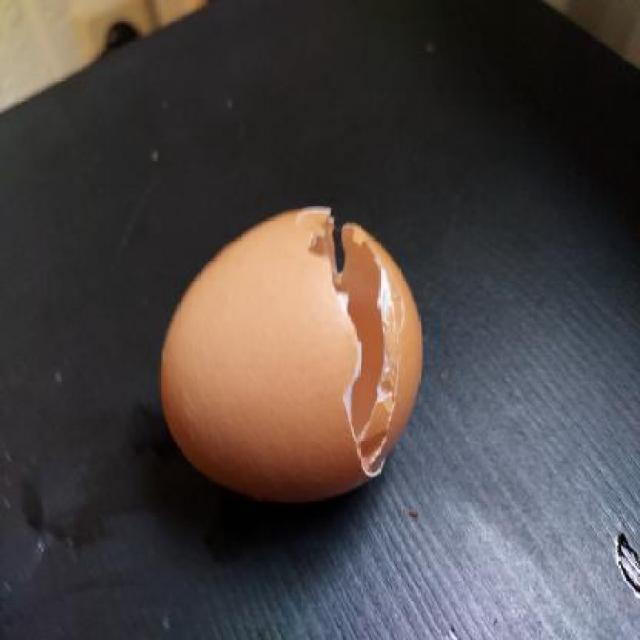biodegradable: (158, 210, 427, 504)
